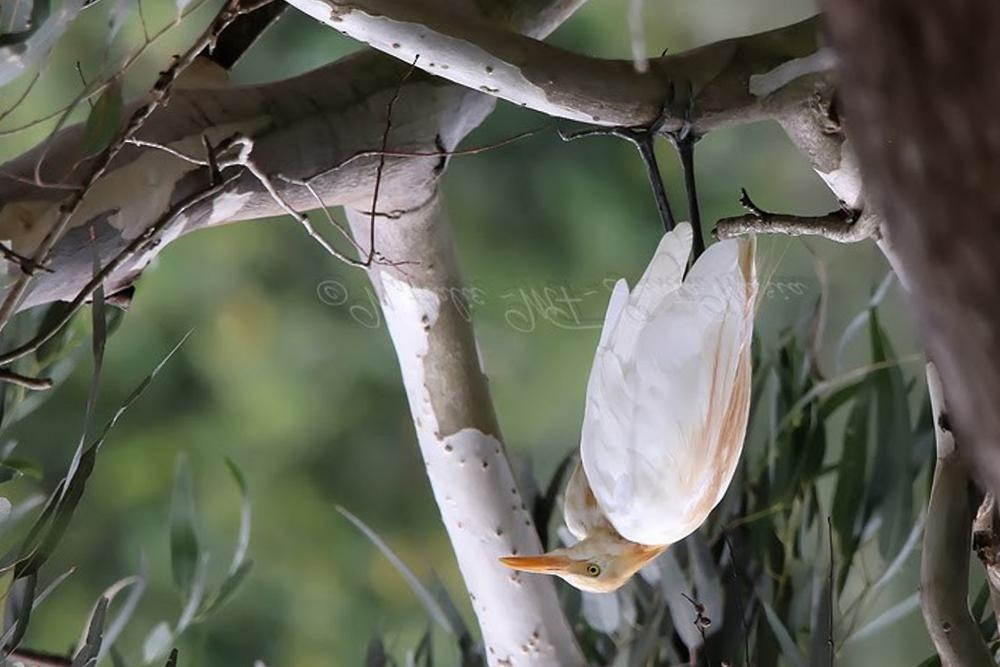egret: (500, 193, 769, 603)
